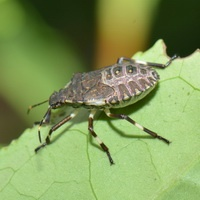insect: (38, 55, 176, 164)
